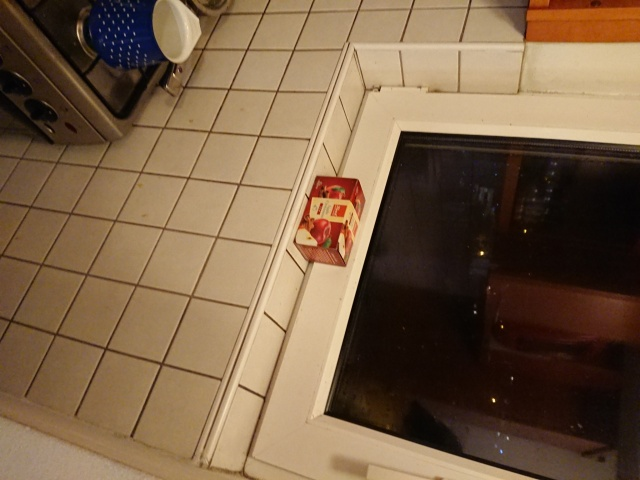Franck Apple Cinnamon Tea 60g: (290, 172, 368, 270)
